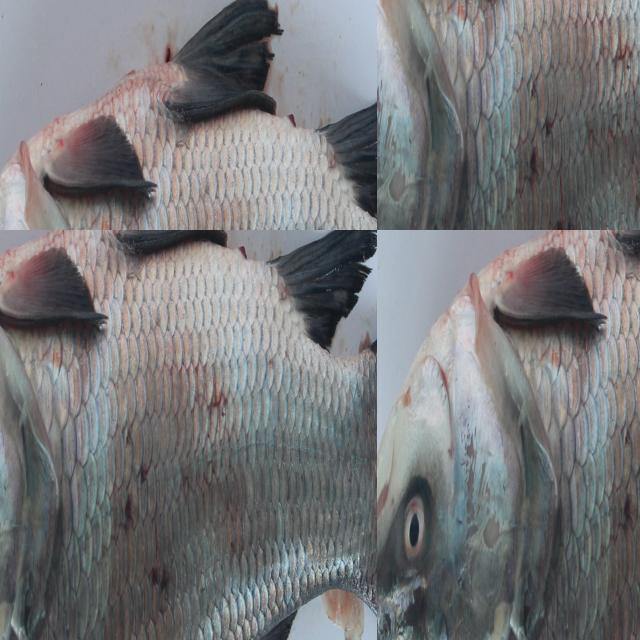fish: (377, 230, 640, 640), (0, 0, 377, 230)
